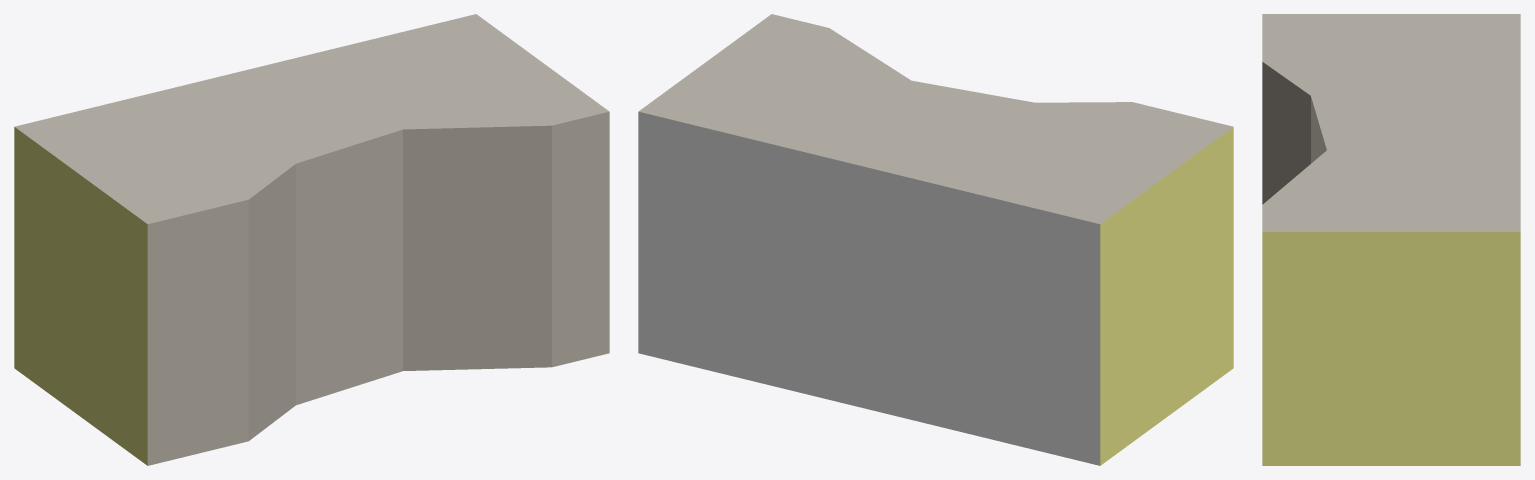
Rendered from Cracked_Straight_2x2_3_Mid.glb.
3 views of the same model, side by side, from view 1: azimuth 30°, elevation 25°; view 2: azimuth 150°, elevation 25°; view 3: azimuth 270°, elevation 25° (orthographic). The views are drawn at different scales.
Visible parts, largest first — view 1: Cracked_Straight_2x2_3_Mid; view 2: Cracked_Straight_2x2_3_Mid; view 3: Cracked_Straight_2x2_3_Mid.
Boxes of the visible parts, <box> form: Cracked_Straight_2x2_3_Mid: <box>14,14,609,465</box>; Cracked_Straight_2x2_3_Mid: <box>638,14,1233,465</box>; Cracked_Straight_2x2_3_Mid: <box>1262,14,1520,465</box>.
Bounding box in the file's own units: 200 × 100 × 100.
